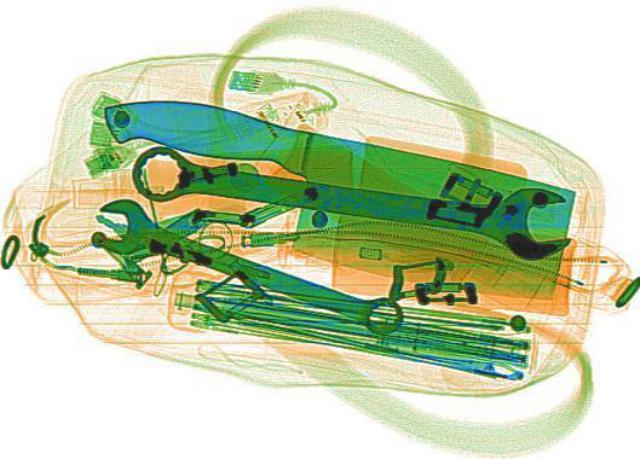Knife: (55, 85, 603, 306)
Wrench: (119, 128, 584, 263), (73, 191, 419, 342)
